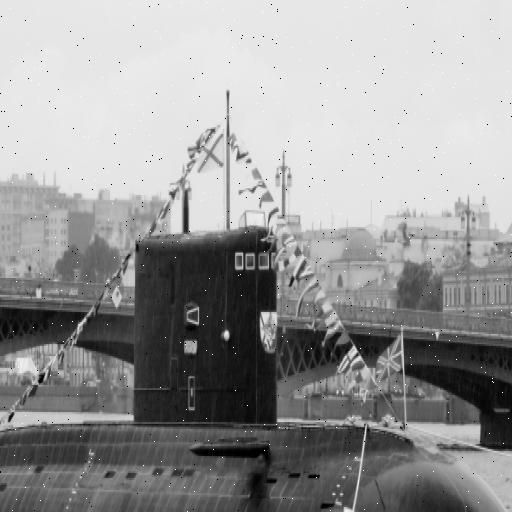submarine: (1, 226, 512, 512)
